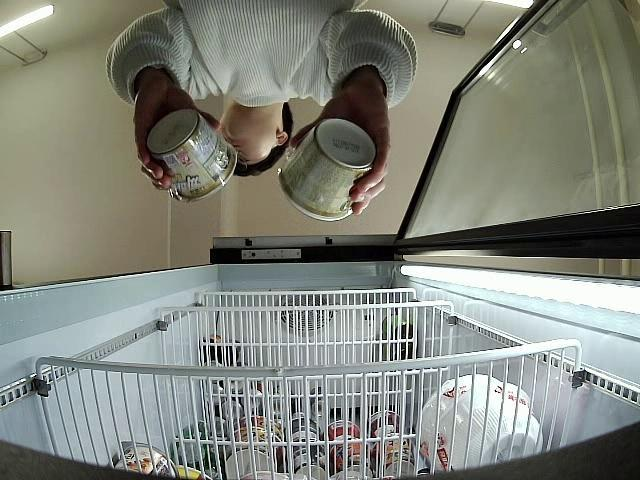04_chapagetti_S: (278, 119, 374, 222), (148, 109, 236, 202)
